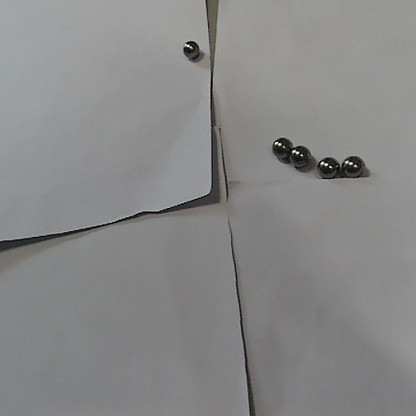ironball: (270, 135, 292, 161), (341, 154, 363, 178), (290, 145, 310, 167), (317, 157, 336, 177), (182, 40, 199, 59)
